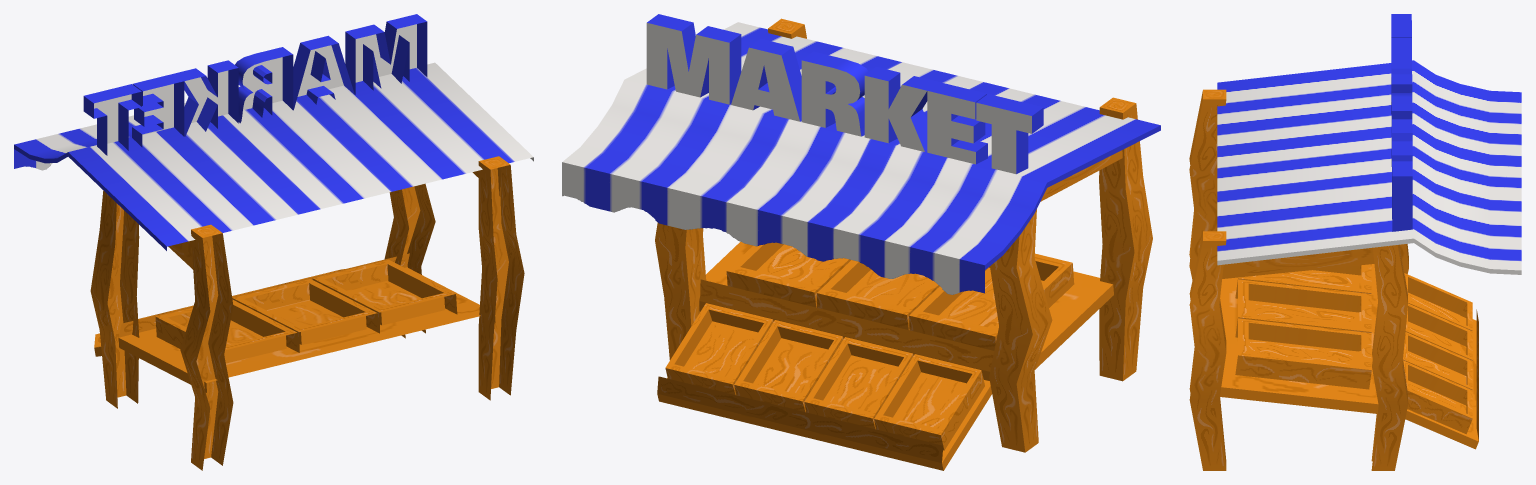
The model's file is Market LVL2.fbx.
The picture shows the model from 3 angles, left to right: view 1: azimuth 30°, elevation 25°; view 2: azimuth 150°, elevation 25°; view 3: azimuth 270°, elevation 25°; orthographic projection. The views are drawn at different scales.
Parts seen in each view (by area): view 1: Market_LVL2_Body, Market_LVL2_Cover, Market_LVL2_Sign; view 2: Market_LVL2_Body, Market_LVL2_Cover, Market_LVL2_Sign; view 3: Market_LVL2_Cover, Market_LVL2_Body, Market_LVL2_Sign.
Boxes of the visible parts, x1,y1,x2,y2 form: Market_LVL2_Body: [90, 156, 524, 470]; Market_LVL2_Cover: [14, 62, 533, 250]; Market_LVL2_Sign: [83, 14, 427, 155]; Market_LVL2_Body: [655, 18, 1152, 470]; Market_LVL2_Cover: [562, 22, 1160, 294]; Market_LVL2_Sign: [646, 14, 1043, 174]; Market_LVL2_Cover: [1217, 60, 1521, 274]; Market_LVL2_Body: [1189, 89, 1478, 470]; Market_LVL2_Sign: [1391, 14, 1412, 231].
Size of the model in its own units: 4.16 by 3.27 by 3.27.
1 material, 1 textured.
